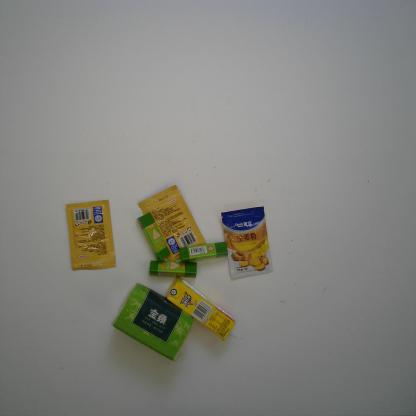Drink: (166, 276, 236, 341)
Seasoner: (137, 184, 207, 262), (220, 206, 274, 280), (66, 199, 116, 271)
Stationery: (136, 211, 171, 261), (178, 241, 228, 263), (149, 260, 197, 278)
Tissue: (110, 281, 193, 362)
